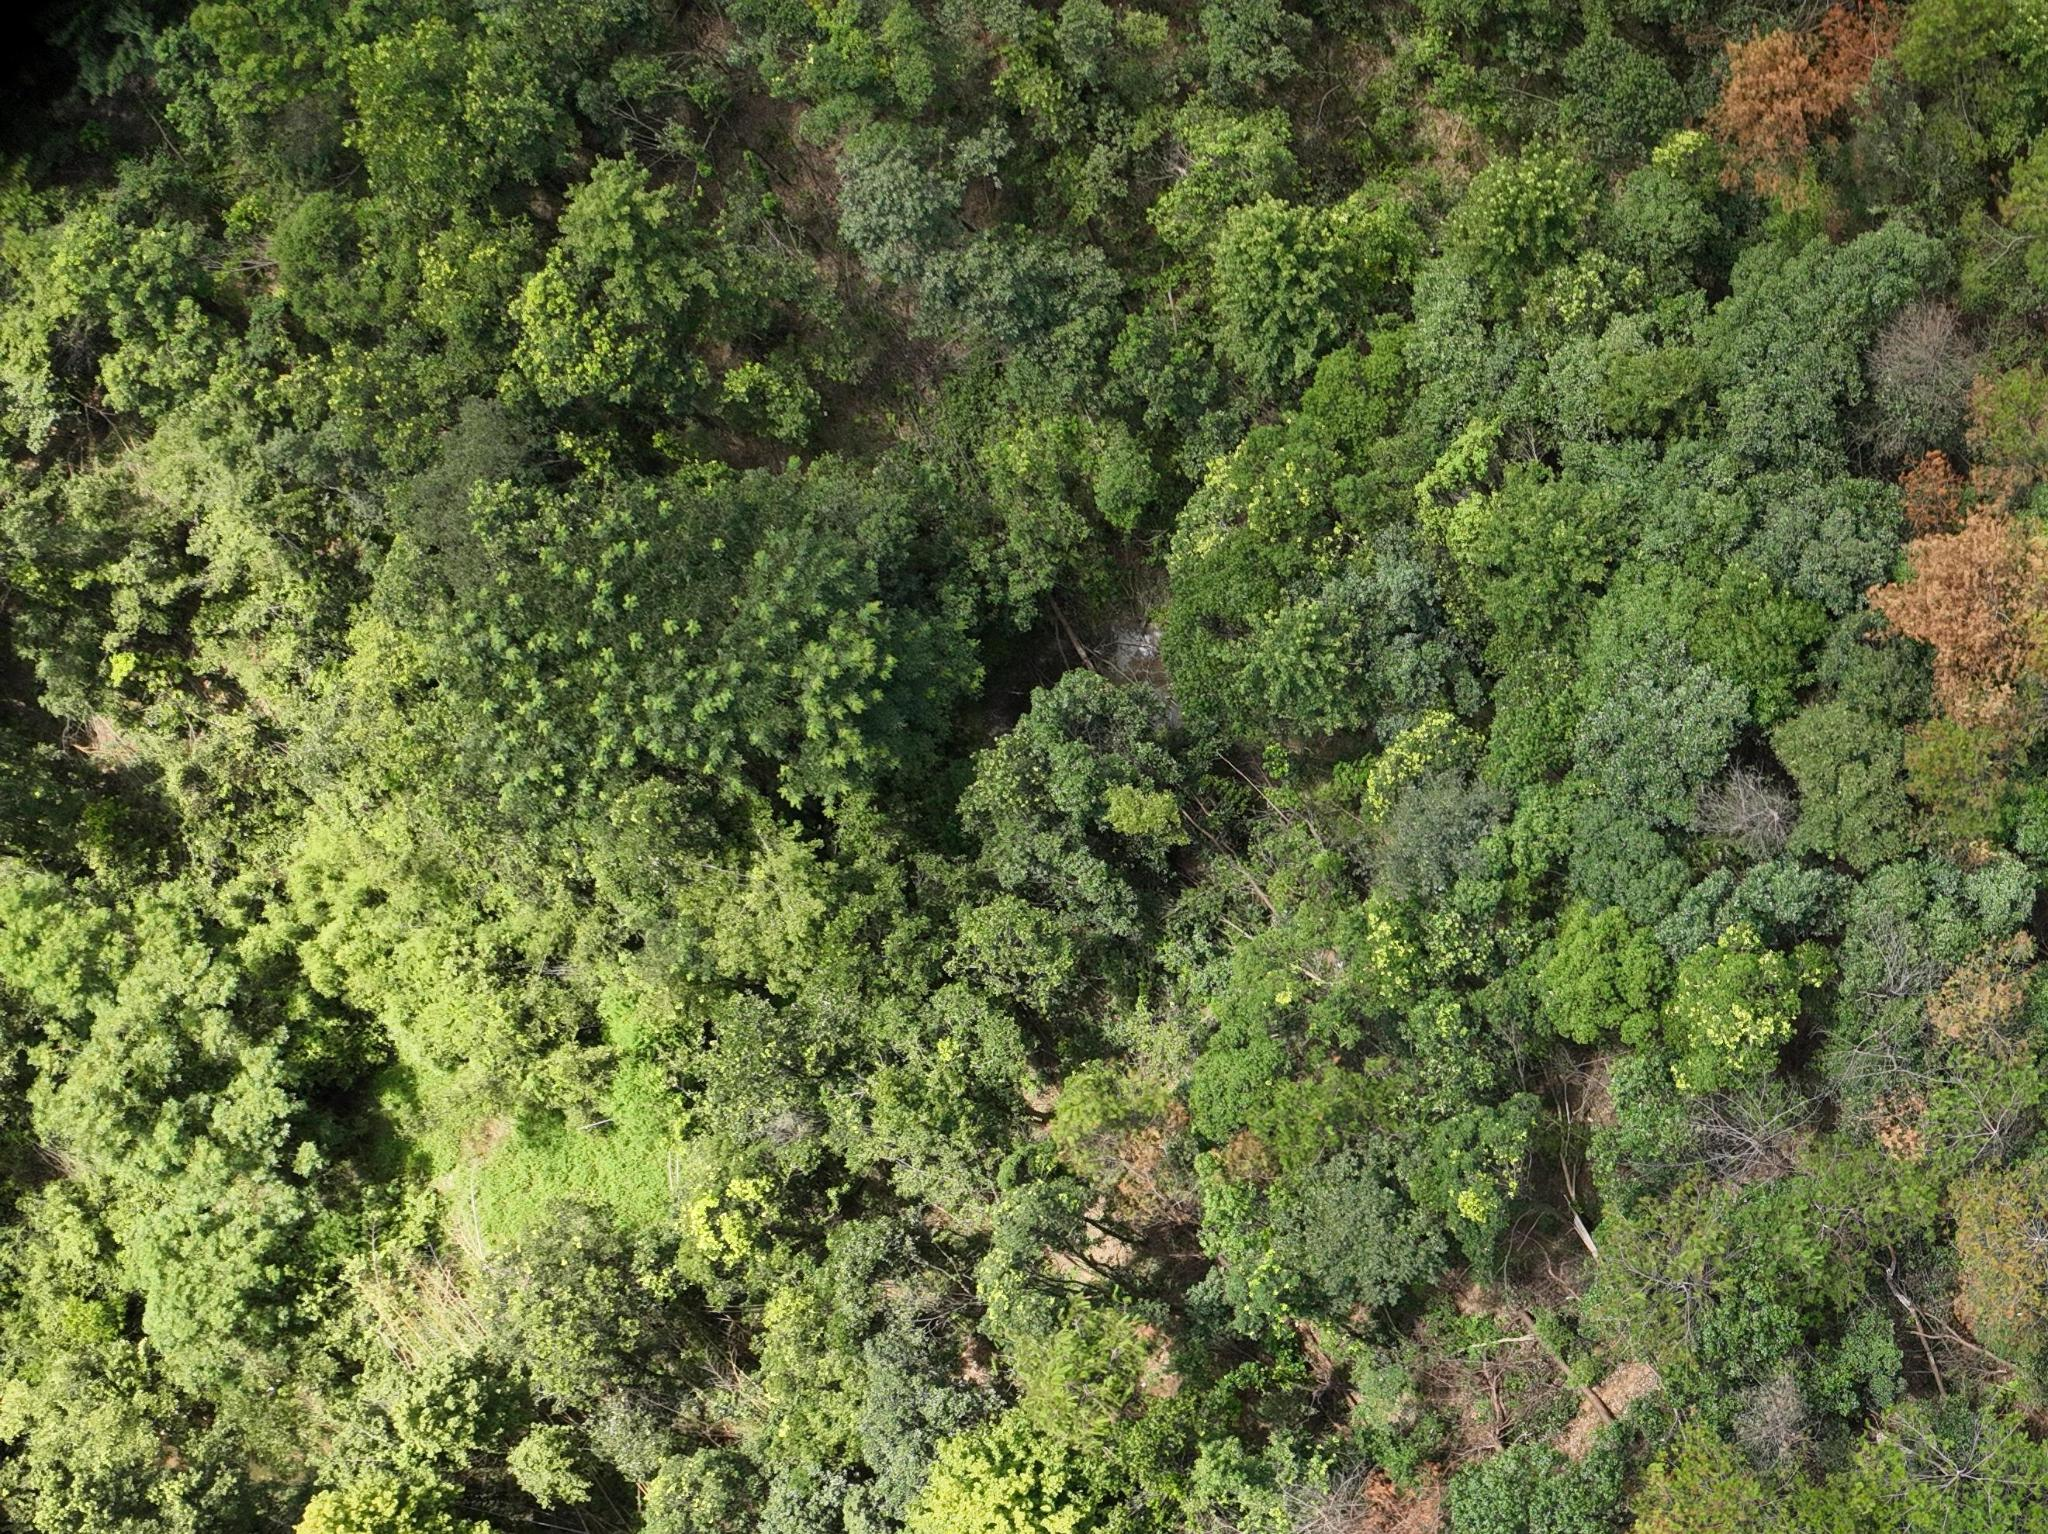dead: (1877, 293, 1975, 401)
heavy: (1871, 453, 2042, 719), (1703, 8, 1890, 182), (1342, 1453, 1455, 1526)
light: (1943, 1178, 2045, 1334)
